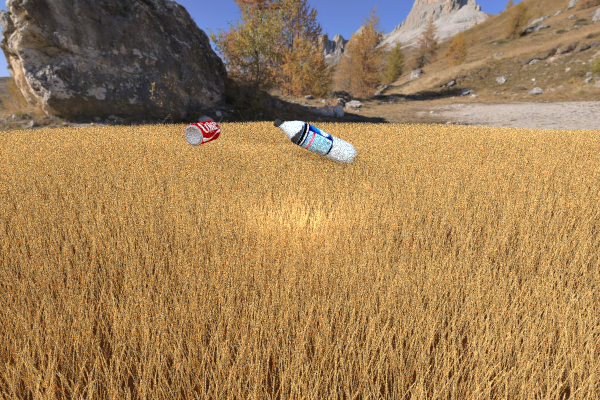bottle: (273, 118, 356, 164)
can: (184, 120, 220, 145)
